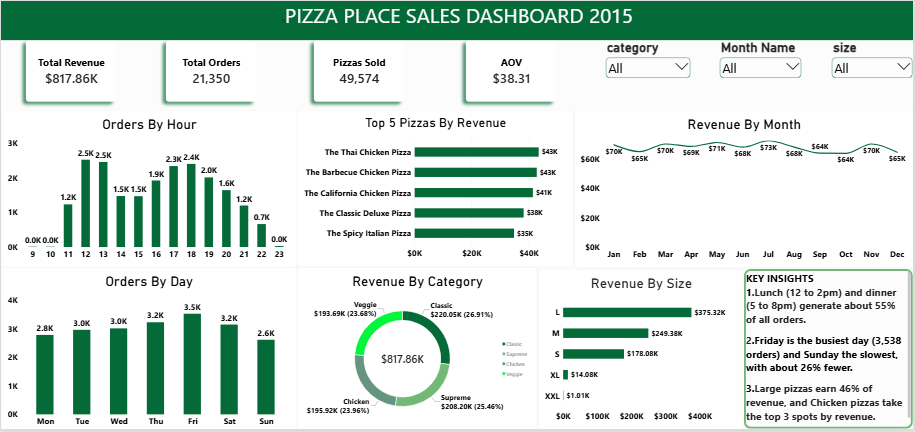

What the dashboard file says about the page in this screenshot:
{"tool":"powerbi","page":{"name":"Page 1","canvas":[2400,1125],"ordinal":0},"visuals":[{"type":"cardVisual","fields":{"Data":["_measures.Total Revenue"]},"box":[44.7,81.6,279.7,204.1],"z":0},{"type":"cardVisual","fields":{"Data":["_measures.Total Orders"]},"box":[413.2,81.6,279.7,204.1],"z":1},{"type":"cardVisual","fields":{"Data":["_measures.Pizzas Sold"]},"box":[802.6,81.6,279.7,204.1],"z":2},{"type":"cardVisual","fields":{"Data":["_measures.AOV"]},"box":[1202.6,81.6,279.7,204.1],"z":3},{"type":"textbox","box":[0,0,2402.6,102.6],"z":5},{"type":"lineChart","title":"Revenue By Month","fields":{"Category":["vw_pizza_sales.Month Name"],"Y":["_measures.Total Revenue"]},"box":[1507.9,286.8,894.7,415.8],"z":6},{"type":"columnChart","title":"Orders By Hour","fields":{"Category":["vw_pizza_sales.Hour"],"Y":["_measures.Total Orders"]},"box":[0,286.8,779.5,414.7],"z":7},{"type":"columnChart","title":" Orders By Day","fields":{"Category":["vw_pizza_sales.Day Name"],"Y":["_measures.Total Orders"]},"box":[0,700,778.9,442.1],"z":8},{"type":"donutChart","title":"Revenue By Category","fields":{"Category":["vw_pizza_sales.category"],"Y":["_measures.Total Revenue"]},"box":[780,700,632.5,427.5],"z":9},{"type":"clusteredBarChart","title":"Revenue By Size","fields":{"Category":["vw_pizza_sales.size"],"Y":["_measures.Total Revenue"]},"box":[1412.5,705,542.5,422.5],"z":10},{"type":"clusteredBarChart","title":"Top 5 Pizzas By Revenue","fields":{"Category":["vw_pizza_sales.pizza_name"],"Y":["_measures.Total Revenue"]},"box":[778.9,286.8,728.9,413.2],"z":11},{"type":"slicer","fields":{"Values":["vw_pizza_sales.category"]},"box":[1586.8,102.6,231.6,102.6],"z":12},{"type":"slicer","fields":{"Values":["vw_pizza_sales.Month Name"]},"box":[1886.8,102.6,224.3,100.3],"z":13},{"type":"slicer","fields":{"Values":["vw_pizza_sales.size"]},"box":[2181.6,102.6,221.6,100.3],"z":14},{"type":"textbox","box":[1956,705,444,420],"z":15}]}

Visuals, with their boxes in screenshot pixels (x1, y1, x2, y2), scaled from the page's 2400x1125 canvas onto the 915x432 screenshot:
cardVisual - _measures.Total Revenue: select_region(17, 31, 124, 110)
cardVisual - _measures.Total Orders: select_region(158, 31, 264, 110)
cardVisual - _measures.Pizzas Sold: select_region(306, 31, 413, 110)
cardVisual - _measures.AOV: select_region(458, 31, 565, 110)
textbox: select_region(0, 0, 914, 39)
"Revenue By Month" lineChart: select_region(575, 110, 914, 270)
"Orders By Hour" columnChart: select_region(0, 110, 297, 269)
" Orders By Day" columnChart: select_region(0, 269, 297, 431)
"Revenue By Category" donutChart: select_region(297, 269, 539, 431)
"Revenue By Size" clusteredBarChart: select_region(539, 271, 745, 431)
"Top 5 Pizzas By Revenue" clusteredBarChart: select_region(297, 110, 575, 269)
slicer - vw_pizza_sales.category: select_region(605, 39, 693, 79)
slicer - vw_pizza_sales.Month Name: select_region(719, 39, 805, 78)
slicer - vw_pizza_sales.size: select_region(832, 39, 914, 78)
textbox: select_region(746, 271, 914, 431)
